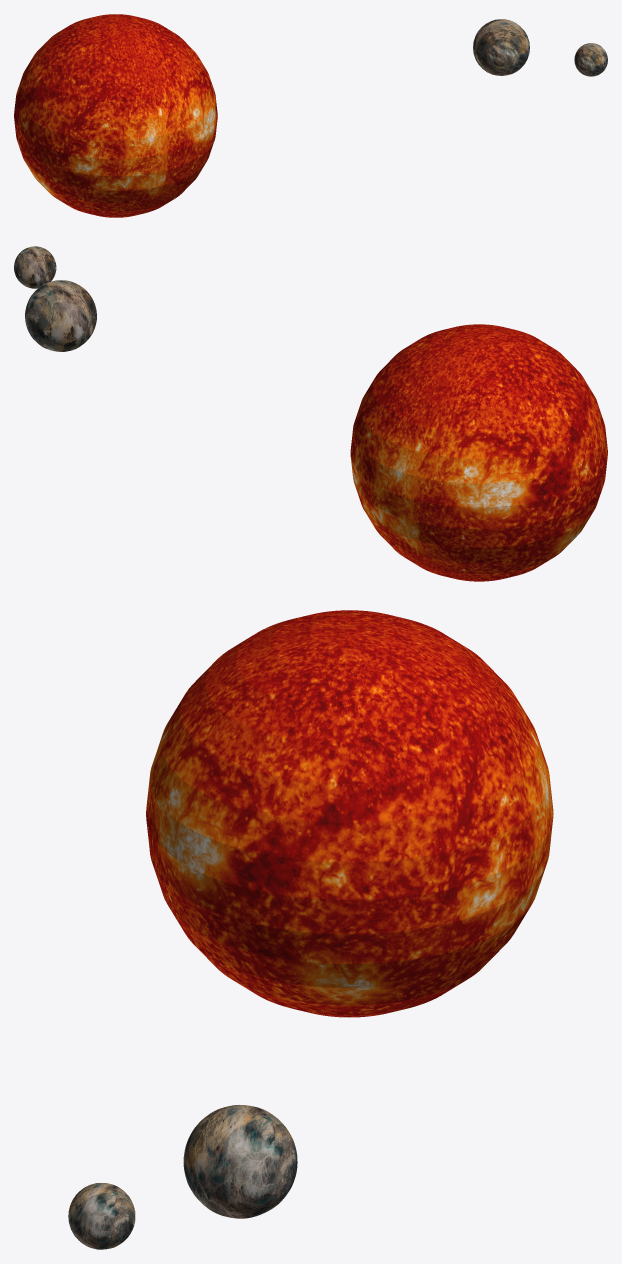
The model's file is orbit.glb.
The picture shows the model from 3 angles, top to bottom: view 1: azimuth 30°, elevation 25°; view 2: azimuth 150°, elevation 25°; view 3: azimuth 270°, elevation 25°; orthographic projection. The views are drawn at different scales.
Parts seen in each view (by area): view 1: Sphere, Plane, Plane.001; view 2: Sphere, Plane, Plane.001; view 3: Sphere, Plane, Plane.001.
Part boxes in pixels (x1,y1,x2,y2): Sphere: (14,14,217,217); Plane: (473,19,529,75); Plane.001: (574,43,607,76); Sphere: (350,324,607,581); Plane: (25,280,96,351); Plane.001: (14,246,56,288); Sphere: (146,610,553,1017); Plane: (183,1105,297,1218); Plane.001: (68,1183,135,1249).
Bounding box in the file's own units: 56.96 × 19.48 × 23.18.
2 materials, 2 textured.
